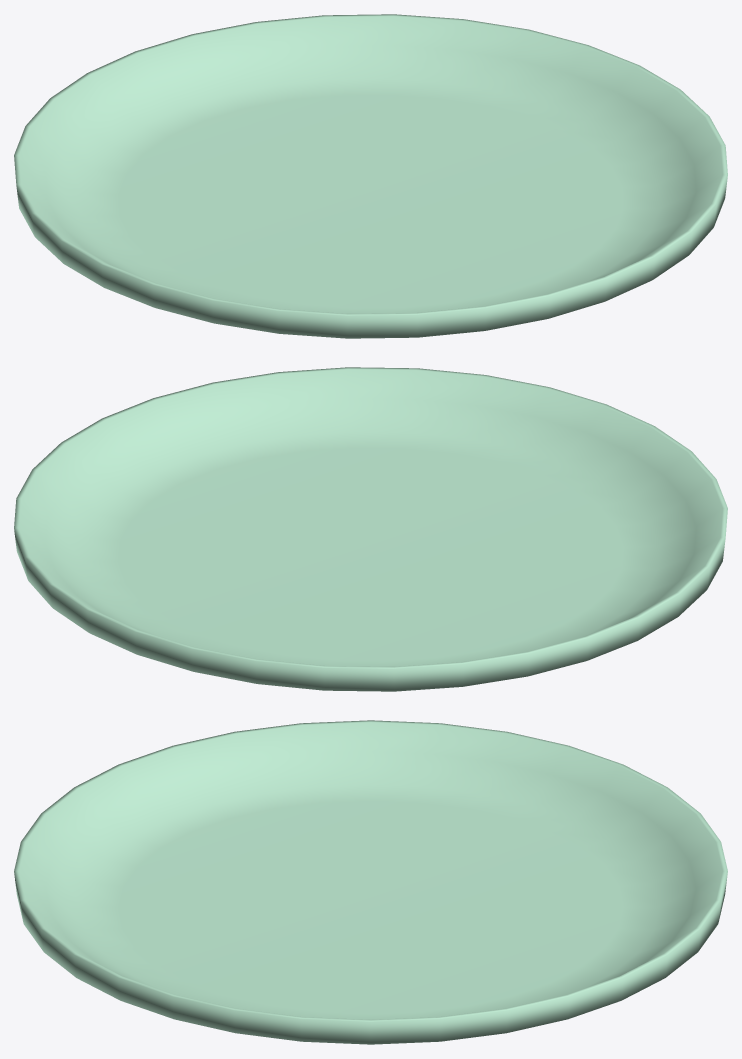
The model's file is Platito.fbx.
3 renders of one model, top to bottom at view 1: azimuth 30°, elevation 25°; view 2: azimuth 150°, elevation 25°; view 3: azimuth 270°, elevation 25°, orthographic.
Visible parts, largest first — view 1: Circle; view 2: Circle; view 3: Circle.
Part boxes in pixels (<box>): Circle: <box>14,14,727,338</box>; Circle: <box>14,367,727,691</box>; Circle: <box>14,720,727,1044</box>.
Bounding box in the file's own units: 0.1473 × 0.00934 × 0.1473.
